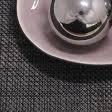ironball: (43, 0, 111, 52)
